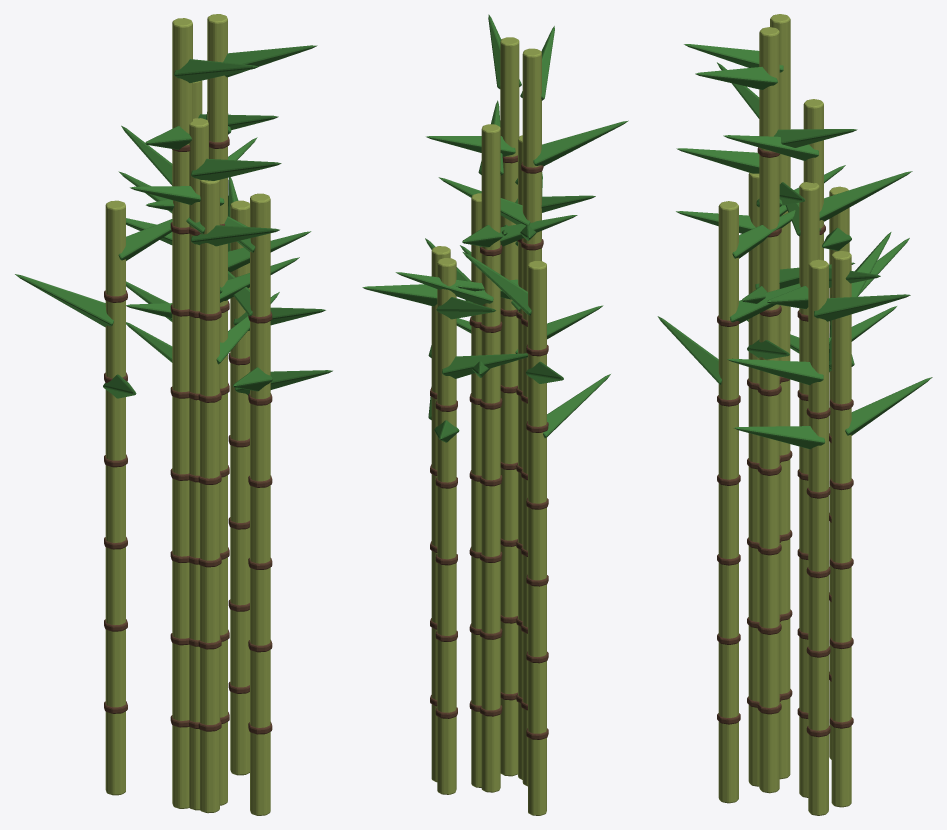
The model's file is china_bamboo.fbx.
The picture shows the model from 3 angles, left to right: view 1: azimuth 30°, elevation 25°; view 2: azimuth 150°, elevation 25°; view 3: azimuth 270°, elevation 25°; orthographic projection. The views are drawn at different scales.
Visible parts, largest first — view 1: china_bamboo; view 2: china_bamboo; view 3: china_bamboo.
Boxes of the visible parts, x1,y1,x2,y2 form: china_bamboo: (15, 14, 332, 815); china_bamboo: (362, 14, 628, 815); china_bamboo: (657, 14, 932, 815).
Size of the model in its own units: 1.45 by 4.77 by 1.57.
